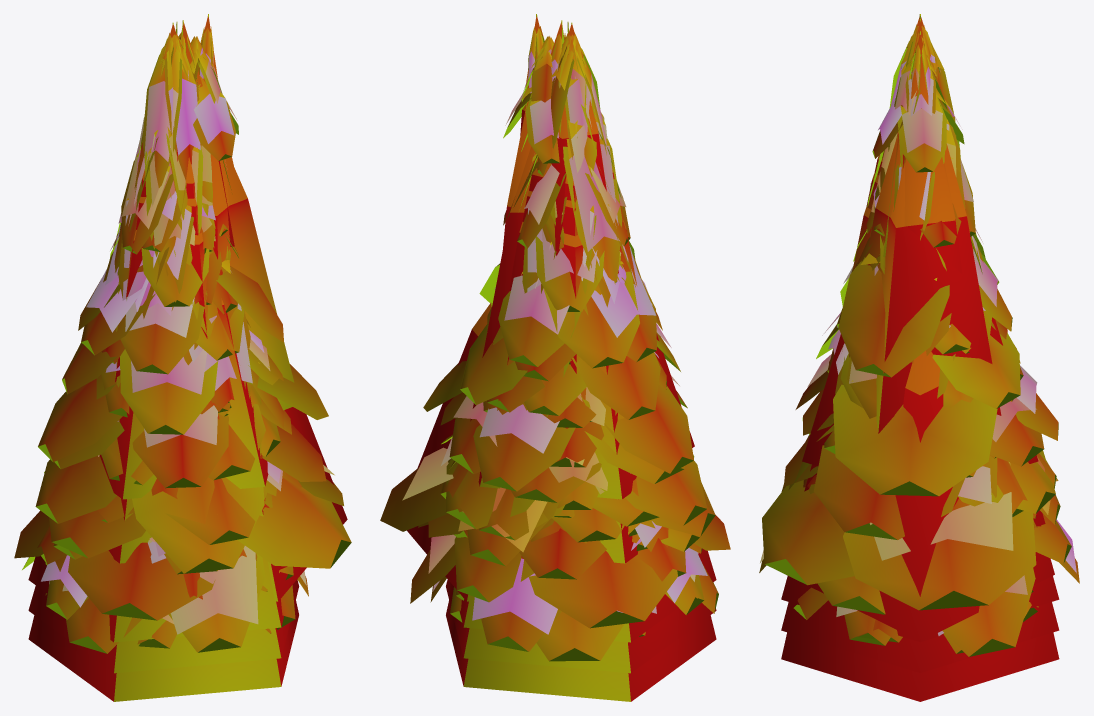
The model's file is spruce.glb.
The picture shows the model from 3 angles, left to right: view 1: azimuth 30°, elevation 25°; view 2: azimuth 150°, elevation 25°; view 3: azimuth 270°, elevation 25°; orthographic projection.
Parts seen in each view (by area): view 1: v3, v9, v6, v2, v4, v0, v2_far, v6_far, v4_far, v3_far, v0_far, v5 (+3 smaller); view 2: v3, v9, v6, v2, v0, v4, v6_far, v2_far, v7, v4_far, v5, v3_far (+4 smaller); view 3: v4, v4_far, v9, v2_far, v6, v6_far, v8_far, v3, v2, v8, v0, v3_far (+2 smaller).
Boxes of the visible parts, x1,y1,x2,y2 form: v3: [38, 33, 291, 488]; v9: [35, 34, 301, 544]; v6: [22, 46, 295, 653]; v2: [41, 38, 308, 652]; v4: [178, 20, 351, 568]; v0: [14, 22, 301, 620]; v2_far: [28, 600, 298, 701]; v6_far: [28, 24, 299, 673]; v4_far: [180, 22, 347, 601]; v3_far: [99, 157, 268, 499]; v0_far: [28, 556, 283, 642]; v5: [37, 22, 285, 599]; v3: [440, 34, 693, 491]; v9: [441, 33, 707, 542]; v6: [410, 47, 718, 661]; v2: [430, 39, 707, 651]; v0: [510, 22, 730, 628]; v4: [380, 20, 565, 531]; v6_far: [446, 24, 716, 673]; v2_far: [446, 600, 716, 701]; v7: [519, 33, 699, 579]; v4_far: [407, 22, 564, 601]; v5: [418, 22, 702, 602]; v3_far: [478, 157, 694, 499]; v4: [762, 19, 1055, 610]; v4_far: [801, 20, 1054, 641]; v9: [783, 25, 1056, 510]; v2_far: [781, 632, 1059, 701]; v6: [781, 41, 1038, 656]; v6_far: [781, 17, 1059, 672]; v8_far: [867, 34, 962, 273]; v3: [795, 25, 1058, 477]; v2: [759, 33, 1079, 653]; v8: [877, 31, 1027, 516]; v0: [809, 14, 1036, 614]; v3_far: [802, 154, 1038, 466].
Bounding box in the file's own units: 6.84 × 13.6 × 6.31.
